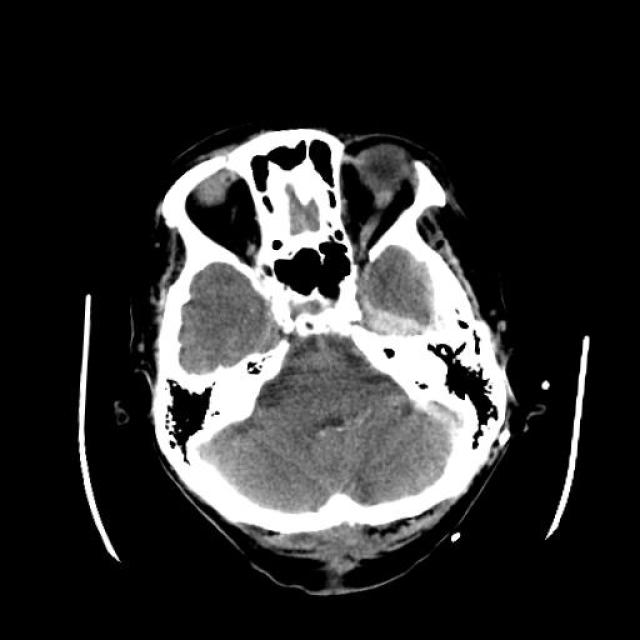Subdural: (346, 278, 446, 360)
